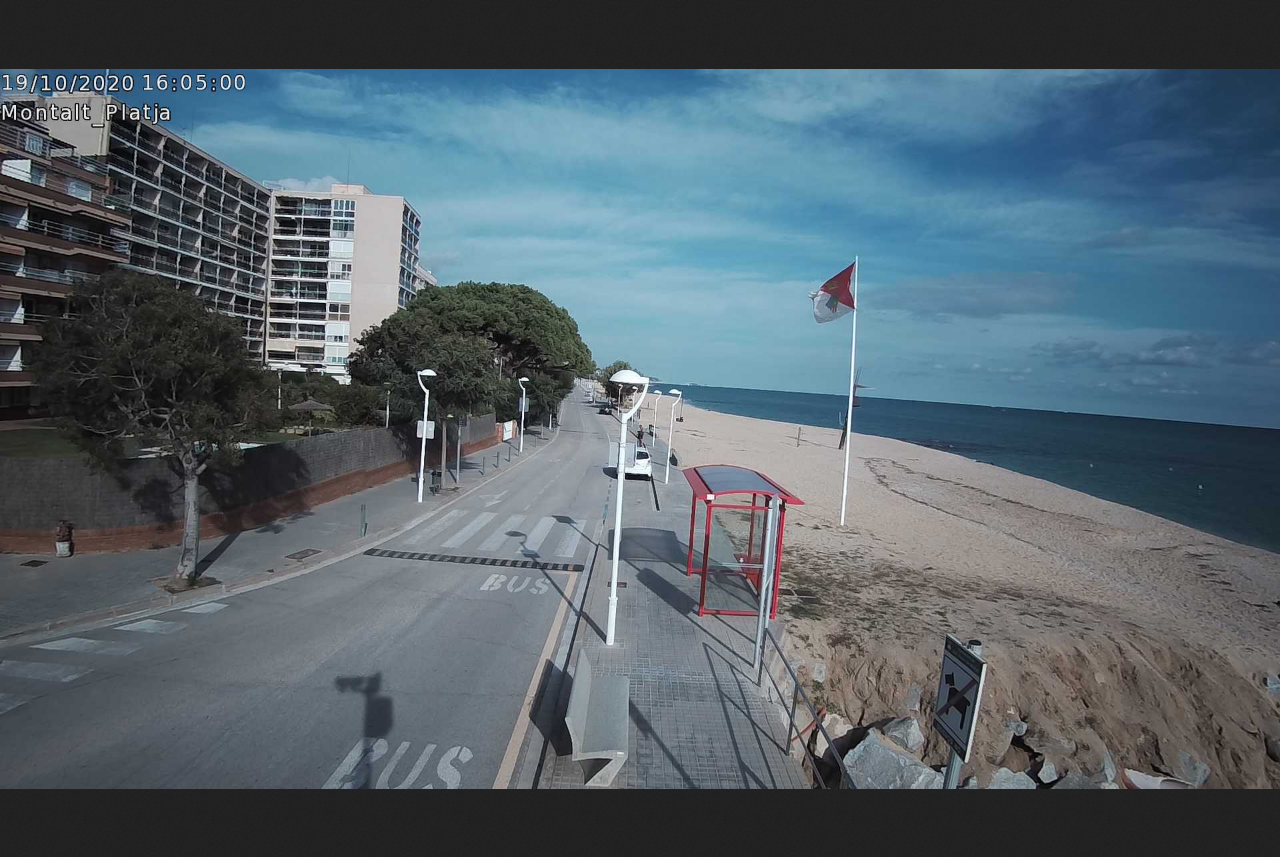maybe: (807, 258, 859, 327)
